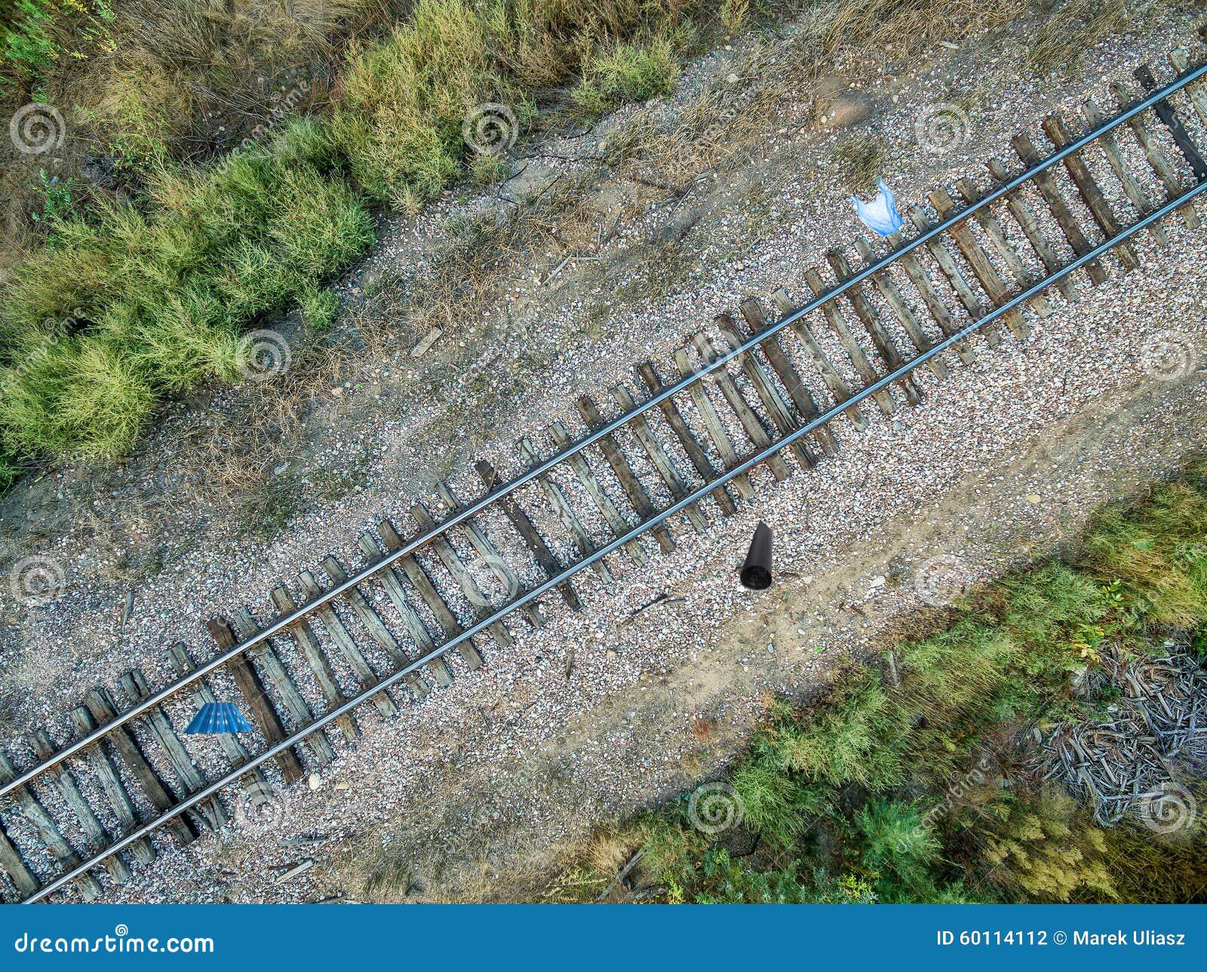Color_steel: (175, 696, 251, 747)
Plastic: (845, 173, 903, 241)
